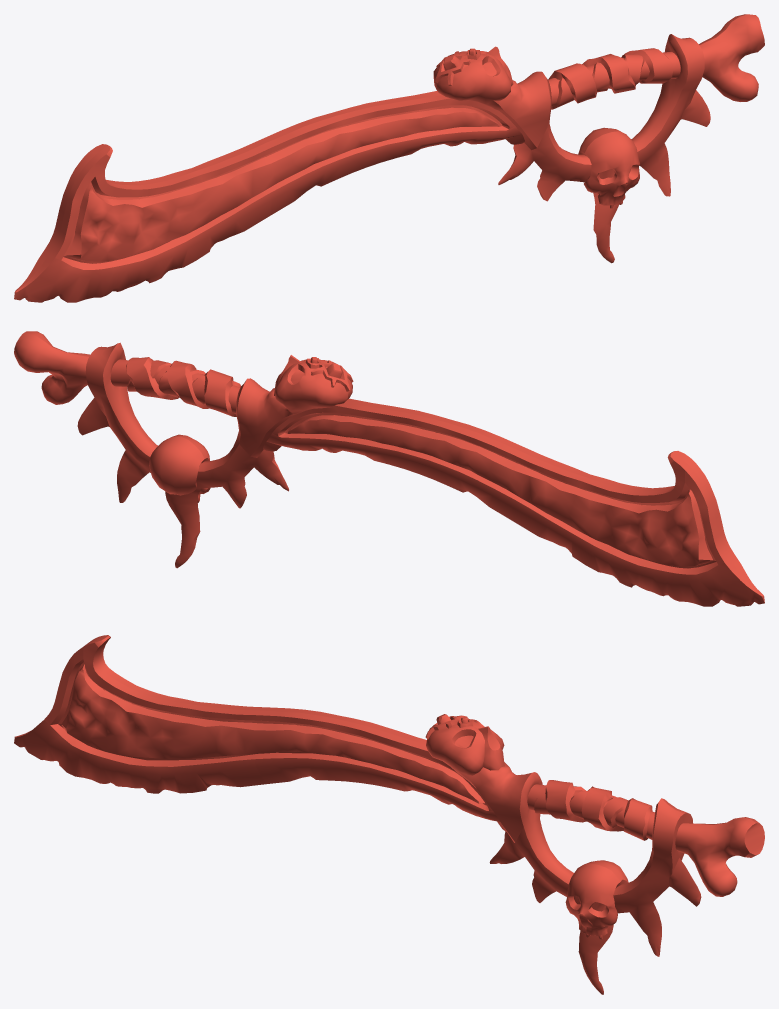
The model's file is SM_Undead_Sword_1.fbx.
The picture shows the model from 3 angles, top to bottom: view 1: azimuth 30°, elevation 25°; view 2: azimuth 150°, elevation 25°; view 3: azimuth 330°, elevation 25°; orthographic projection.
Parts seen in each view (by area): view 1: SM_Undead_Sword_1; view 2: SM_Undead_Sword_1; view 3: SM_Undead_Sword_1.
Part boxes in pixels (box(x1,y1,x2,y2)): SM_Undead_Sword_1: box(14, 14, 764, 302); SM_Undead_Sword_1: box(14, 331, 764, 606); SM_Undead_Sword_1: box(14, 635, 764, 994).
Size of the model in its own units: 1.26 by 0.3973 by 0.1022.
